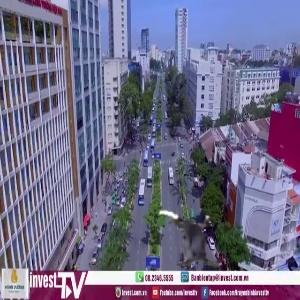drone: (151, 201, 233, 283)
